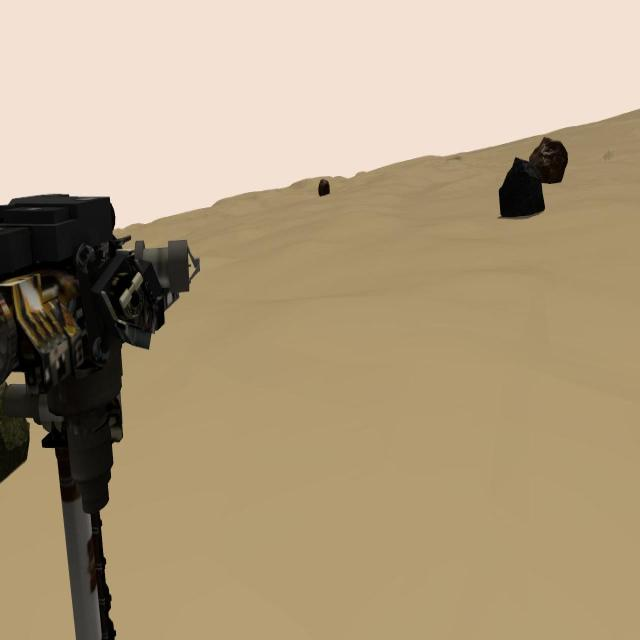rock: (498, 157, 545, 217), (529, 137, 568, 184), (319, 177, 330, 197)
